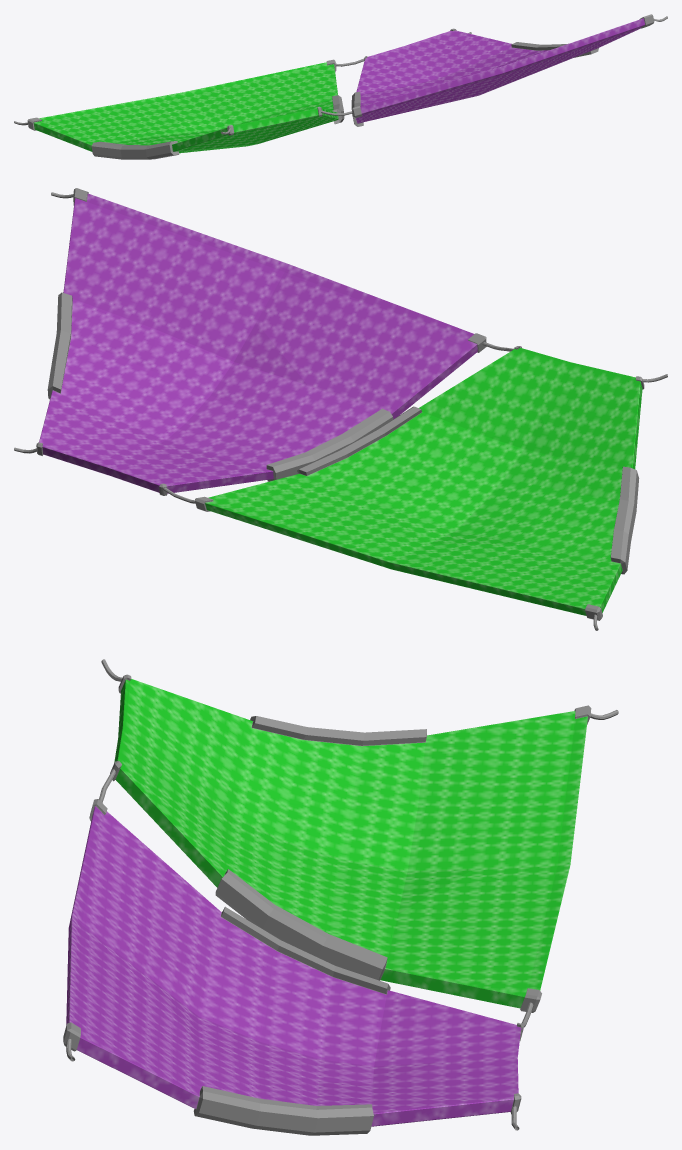
File: SM_Cloth_02.fbx
3 renders of one model, top to bottom at view 1: azimuth 30°, elevation 25°; view 2: azimuth 150°, elevation 25°; view 3: azimuth 270°, elevation 25°, orthographic. The views are drawn at different scales.
Visible parts, largest first — view 1: SM_Cloth_02; view 2: SM_Cloth_02; view 3: SM_Cloth_02.
Part boxes in pixels (x1,y1,x2,y2): SM_Cloth_02: [14, 14, 667, 159]; SM_Cloth_02: [14, 188, 667, 630]; SM_Cloth_02: [63, 659, 618, 1135].
Bounding box in the file's own units: 268 × 124 × 48.56.
